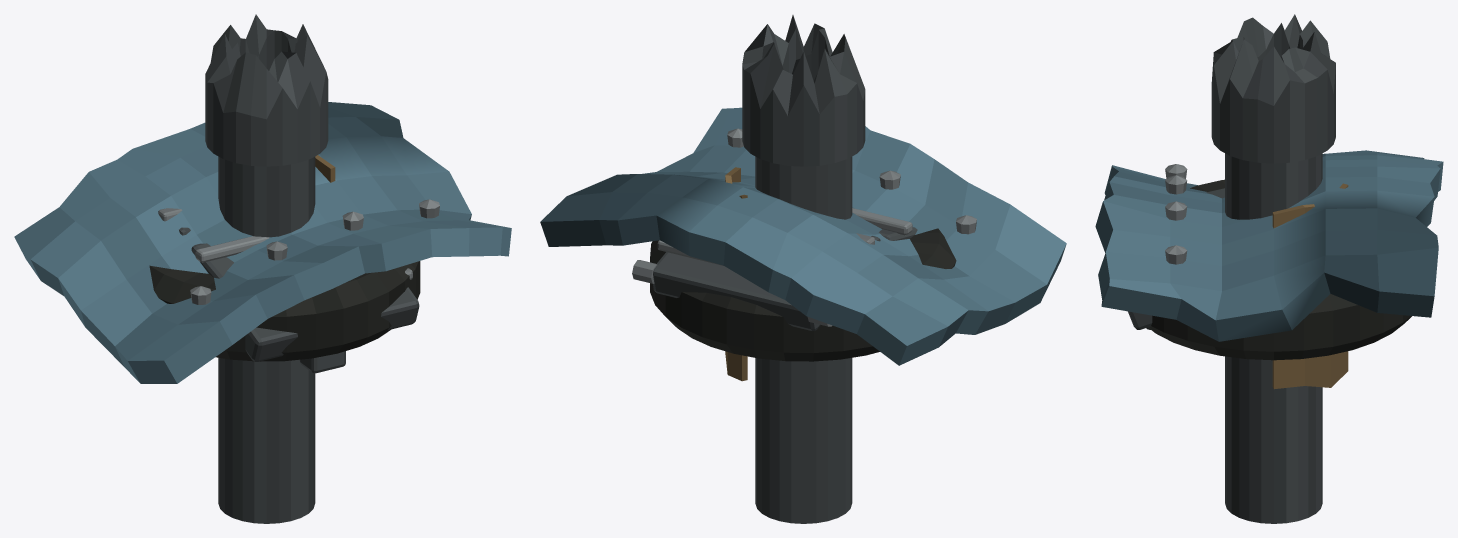
Rendered from fragments_runtime.glb.
The picture shows the model from 3 angles, left to right: view 1: azimuth 30°, elevation 25°; view 2: azimuth 150°, elevation 25°; view 3: azimuth 270°, elevation 25°; orthographic projection.
Visible parts, largest first — view 1: tank_plate, tank_barrel, tank_wheel, tank_track; view 2: tank_plate, tank_barrel, tank_wheel, tank_track, shell_shard; view 3: tank_plate, tank_barrel, tank_wheel, shell_shard, tank_track.
Boxes of the visible parts, x1=… form: tank_plate: x1=14, y1=102, x2=511, y2=383; tank_barrel: x1=205, y1=14, x2=328, y2=523; tank_wheel: x1=149, y1=261, x2=420, y2=361; tank_track: x1=158, y1=208, x2=419, y2=373; tank_plate: x1=540, y1=107, x2=1066, y2=365; tank_barrel: x1=742, y1=15, x2=865, y2=523; tank_wheel: x1=650, y1=228, x2=956, y2=361; tank_track: x1=632, y1=208, x2=917, y2=330; shell_shard: x1=725, y1=167, x2=747, y2=381; tank_plate: x1=1095, y1=150, x2=1443, y2=341; tank_barrel: x1=1211, y1=14, x2=1335, y2=523; tank_wheel: x1=1148, y1=179, x2=1411, y2=360; shell_shard: x1=1272, y1=183, x2=1348, y2=389; tank_track: x1=1128, y1=188, x2=1224, y2=329.
Size of the model in its own units: 0.9925 by 1.18 by 0.7845.
